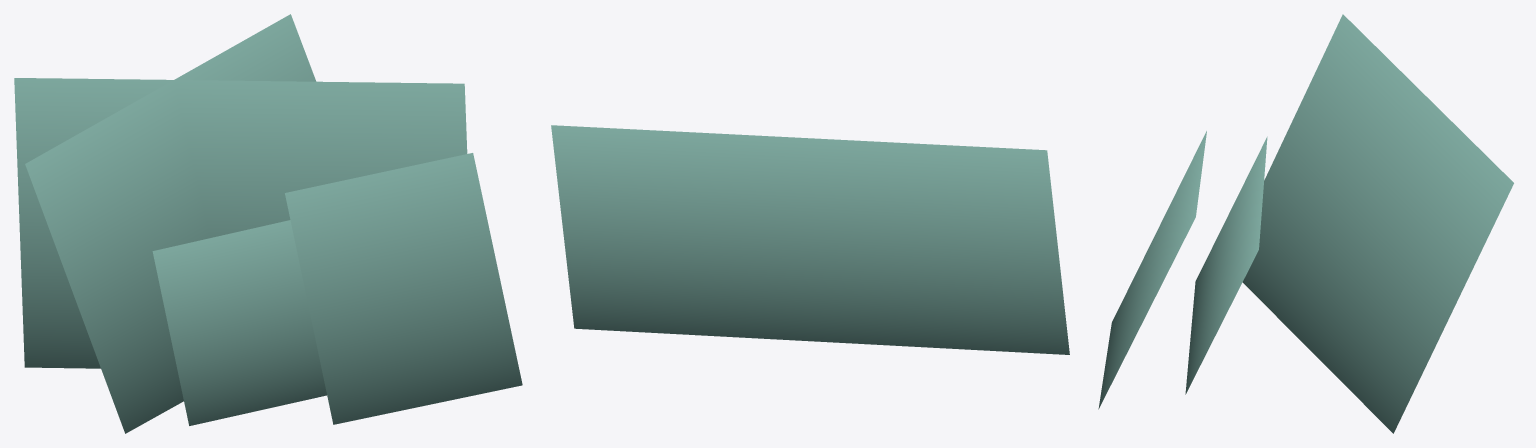
The model's file is tuft.glb.
3 renders of one model, left to right at view 1: azimuth 30°, elevation 25°; view 2: azimuth 150°, elevation 25°; view 3: azimuth 270°, elevation 25°, orthographic. The views are drawn at different scales.
Visible parts, largest first — view 1: tuft; view 2: tuft; view 3: tuft.
Boxes of the visible parts, left/top/right/bottom form: tuft: left=14, top=14, right=522, bottom=433; tuft: left=551, top=125, right=1069, bottom=354; tuft: left=1098, top=14, right=1513, bottom=433.
Bounding box in the file's own units: 0.5691 × 0.3109 × 0.5154.
